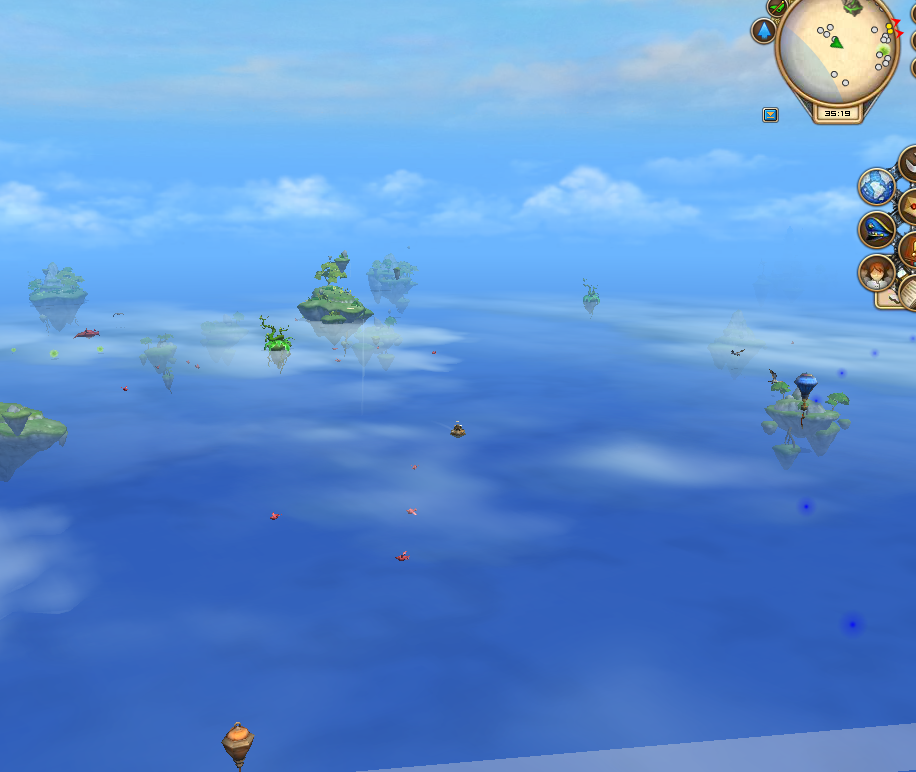dandelion-empty: (255, 311, 297, 377)
dandelion-full: (576, 274, 602, 319)
fluff: (7, 344, 21, 357), (47, 348, 61, 361), (94, 344, 107, 356)
